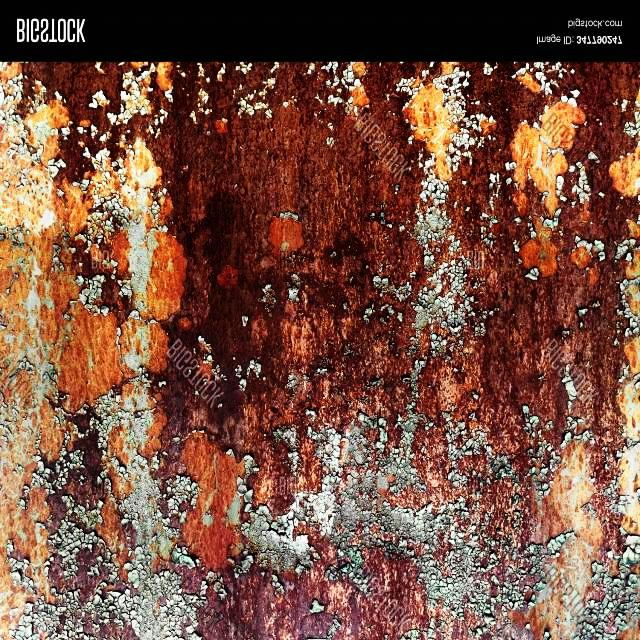Corrosion: (171, 144, 255, 388), (547, 236, 629, 444), (306, 296, 413, 424), (212, 104, 324, 217), (479, 264, 563, 404), (313, 214, 408, 327), (153, 374, 250, 468), (301, 120, 387, 218), (22, 60, 131, 125), (198, 558, 274, 639), (251, 282, 280, 359)
